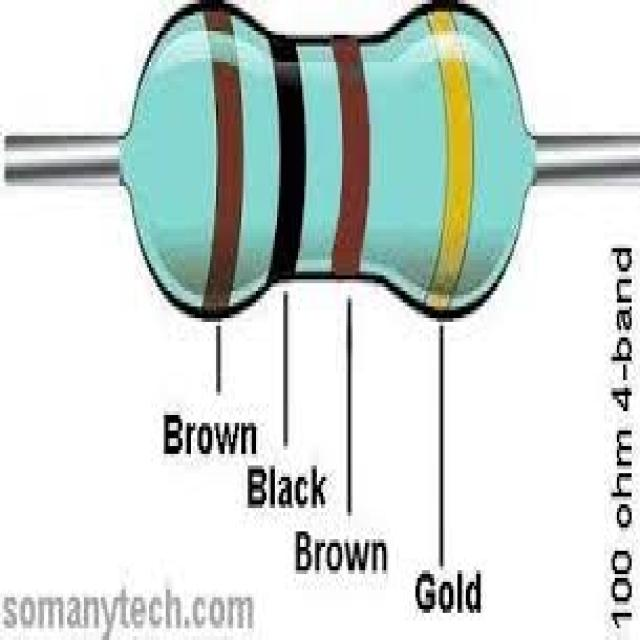Resistor: (122, 4, 533, 314)
black: (267, 33, 305, 289)
brown: (201, 4, 244, 315), (331, 34, 371, 276)
gold: (424, 1, 473, 316)
